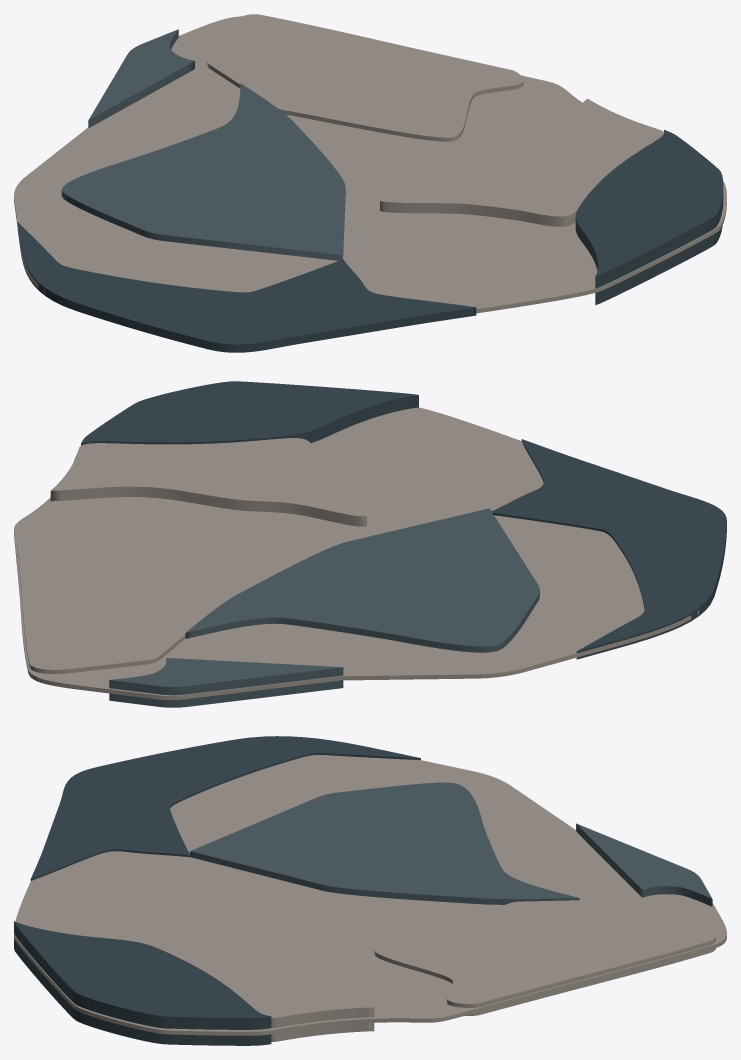
The model's file is emoji_u1faa8.glb.
3 views of the same model, one above another, from view 1: azimuth 30°, elevation 25°; view 2: azimuth 150°, elevation 25°; view 3: azimuth 270°, elevation 25° (orthographic). The views are drawn at different scales.
Visible parts, largest first — view 1: emoji_u1faa8; view 2: emoji_u1faa8; view 3: emoji_u1faa8.
Part boxes in pixels (box(x1,y1,x2,y2)): emoji_u1faa8: box(14, 14, 726, 352); emoji_u1faa8: box(14, 381, 726, 707); emoji_u1faa8: box(14, 736, 726, 1045).
Bounding box in the file's own units: 0.0316 × 0.0014 × 0.0324.
